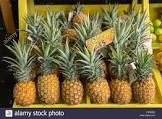Pineapple: (4, 40, 36, 106), (61, 41, 86, 104), (85, 45, 111, 104), (38, 44, 61, 102), (111, 45, 133, 105), (132, 52, 154, 105)
